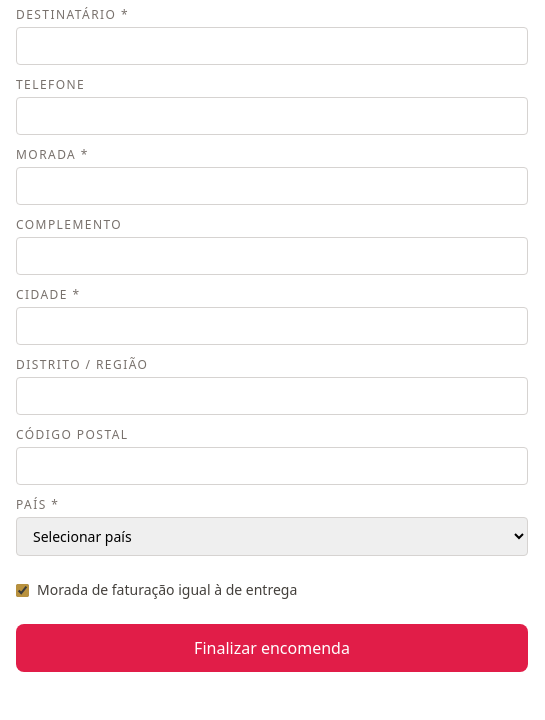
Scenario: Checkout Page › 2b. desmarcar checkbox mostra formulário de faturação
(page scrolled)
Click the checkbox labelled "Morada de faturação igual à de entrega": [22, 590] box [16, 584, 29, 596]
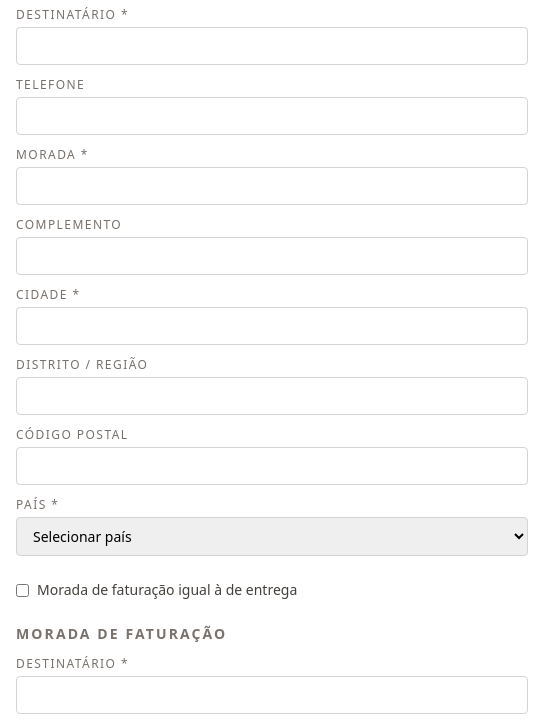
expect the checkbox labelled "Morada de faturação igual à de entrega" is not checked: met, box [16, 584, 29, 596]
expect the heading "Morada de Faturação" is shown: met, box [16, 624, 227, 643]
expect the number of fields named "Destinatário" is 2: met, box [16, 27, 528, 65]; [16, 676, 528, 714]
